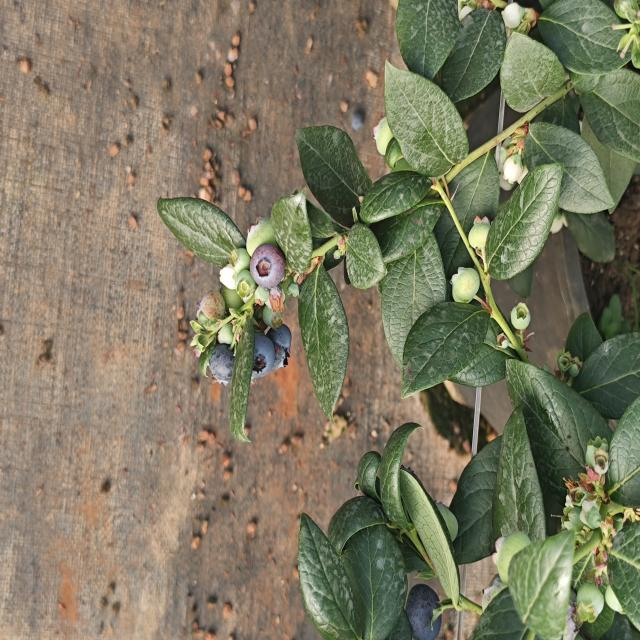ripe: (403, 582, 445, 638), (248, 241, 288, 294), (202, 343, 236, 387), (248, 334, 277, 384), (266, 321, 295, 371)
